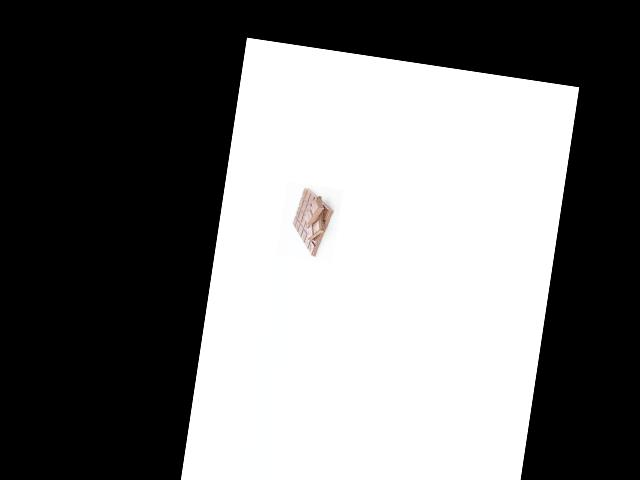chocolate: (284, 185, 339, 259)
